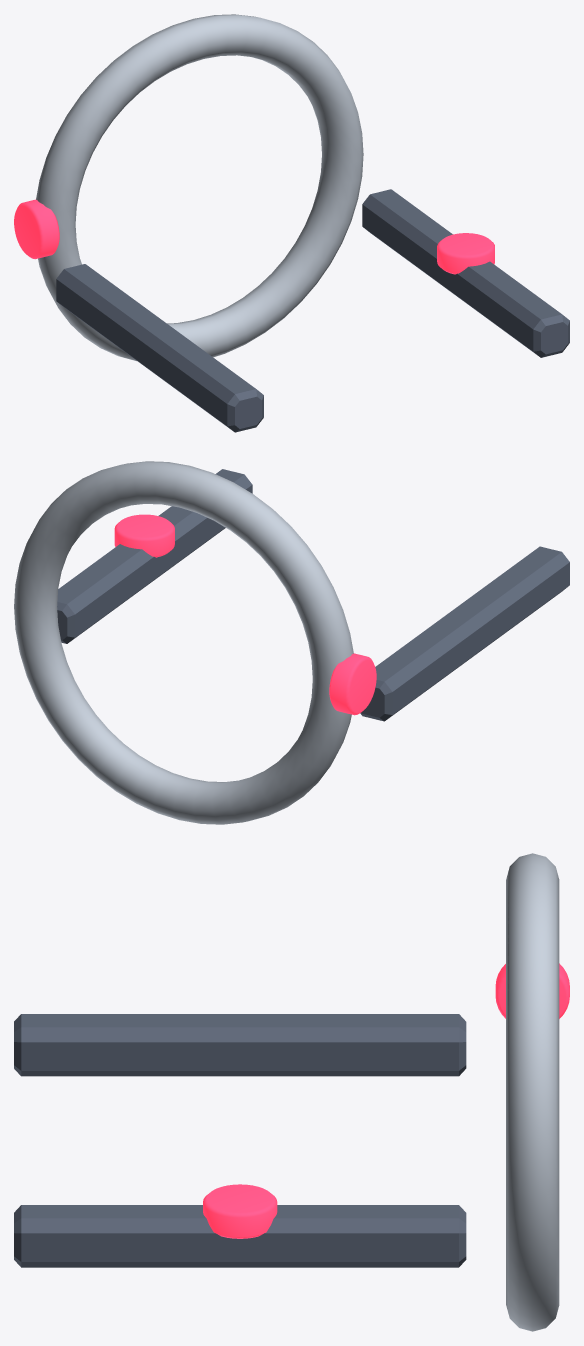
The model's file is tower_filament_peak_s3.glb.
The picture shows the model from 3 angles, top to bottom: view 1: azimuth 30°, elevation 25°; view 2: azimuth 150°, elevation 25°; view 3: azimuth 270°, elevation 25°; orthographic projection. The views are drawn at different scales.
Parts seen in each view (by area): view 1: filament_aperture_ring, filament_lens_brace_r, filament_lens_brace_l, filament_up_peak_l3_stud, filament_up_peak_l2_stud; view 2: filament_aperture_ring, filament_lens_brace_r, filament_lens_brace_l, filament_up_peak_l3_stud, filament_up_peak_l2_stud; view 3: filament_lens_brace_r, filament_lens_brace_l, filament_aperture_ring, filament_up_peak_l2_stud, filament_up_peak_l3_stud.
Boxes of the visible parts, x1,y1,x2,y2 form: filament_aperture_ring: (36,14,363,361); filament_lens_brace_r: (56,264,263,432); filament_lens_brace_l: (362,189,569,357); filament_up_peak_l3_stud: (14,199,59,259); filament_up_peak_l2_stud: (437,233,494,274); filament_aperture_ring: (14,461,353,824); filament_lens_brace_r: (360,546,569,721); filament_lens_brace_l: (57,469,252,643); filament_up_peak_l3_stud: (329,653,376,715); filament_up_peak_l2_stud: (114,514,174,557); filament_lens_brace_r: (14,1014,466,1076); filament_lens_brace_l: (14,1205,466,1267); filament_aperture_ring: (506,853,559,1331); filament_up_peak_l2_stud: (203,1184,277,1238); filament_up_peak_l3_stud: (495,963,569,1018).
Size of the model in its own units: 0.389 by 0.36 by 0.418.
